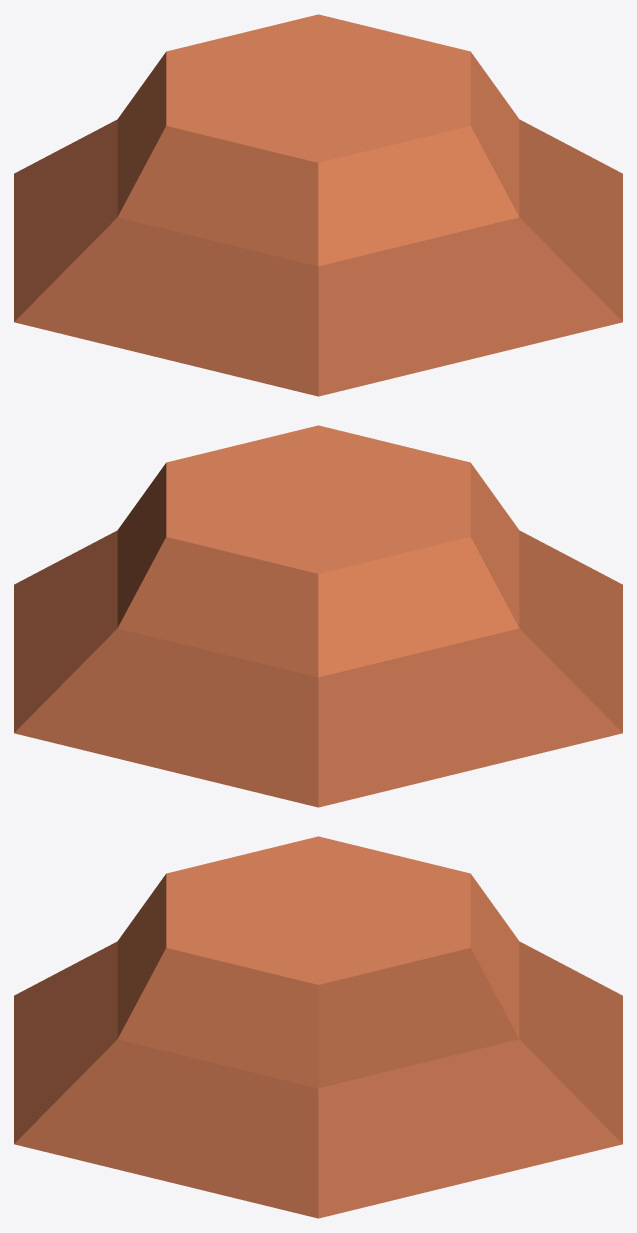
Rendered from crops_dirtSingle.glb.
3 views of the same model, one above another, from view 1: azimuth 30°, elevation 25°; view 2: azimuth 150°, elevation 25°; view 3: azimuth 270°, elevation 25° (orthographic).
Visible parts, largest first — view 1: crops_dirtSingle; view 2: crops_dirtSingle; view 3: crops_dirtSingle.
Part boxes in pixels (x1,y1,x2,y2): crops_dirtSingle: (14,14,622,396); crops_dirtSingle: (14,425,622,807); crops_dirtSingle: (14,836,622,1218).
Bounding box in the file's own units: 0.4 × 0.1 × 0.3464.
